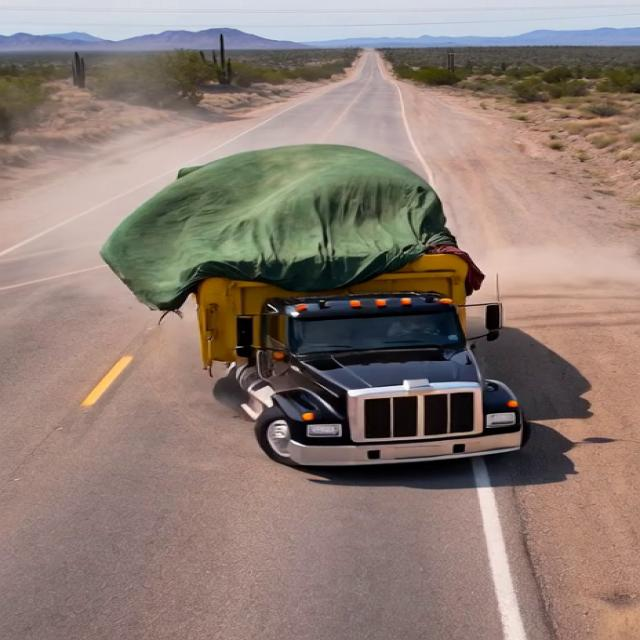Box: (140, 174, 495, 280)
Truck: (88, 133, 533, 475)
